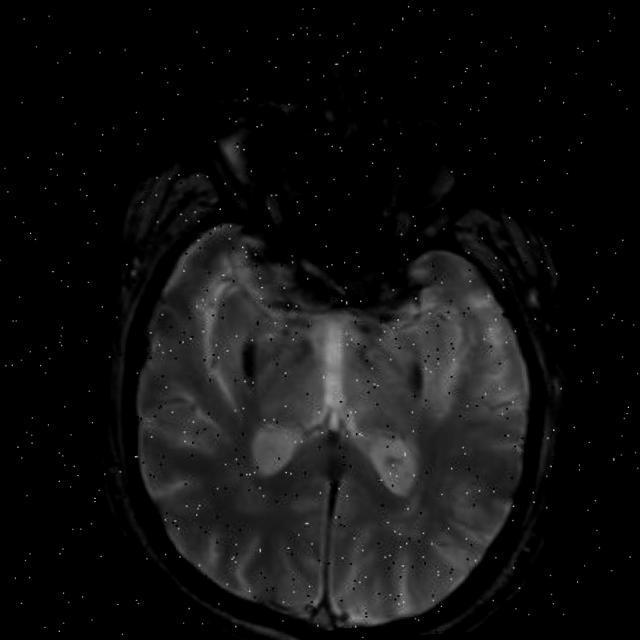MCI: (218, 296, 280, 398), (384, 321, 442, 415)
